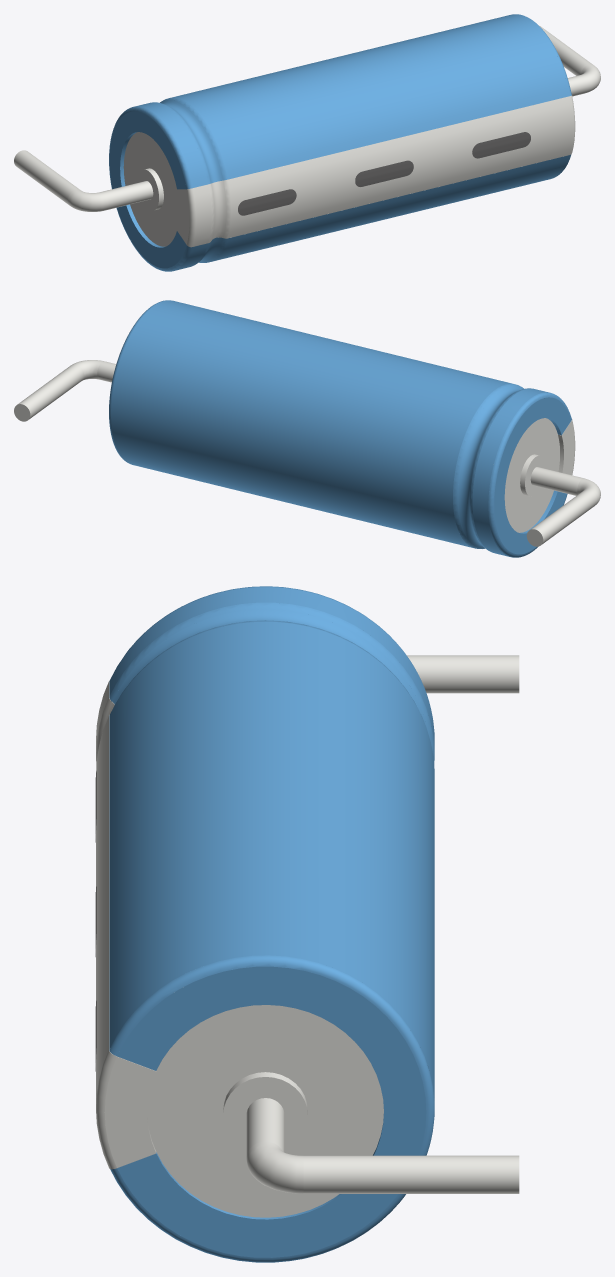
Rendered from CP_Axial_L21.0mm_D8.0mm_P28.00mm_Horizontal.glb.
3 views of the same model, one above another, from view 1: azimuth 30°, elevation 25°; view 2: azimuth 150°, elevation 25°; view 3: azimuth 270°, elevation 25° (orthographic). The views are drawn at different scales.
Visible parts, largest first — view 1: Shape_IndexedFaceSet.009, Shape_IndexedFaceSet.059, Shape_IndexedFaceSet.006, Shape_IndexedFaceSet.074, Shape_IndexedFaceSet, Shape_IndexedFaceSet.005, Shape_IndexedFaceSet.061, Shape_IndexedFaceSet.063, Shape_IndexedFaceSet.003, Shape_IndexedFaceSet.045, Shape_IndexedFaceSet.018, Shape_IndexedFaceSet.038 (+11 smaller); view 2: Shape_IndexedFaceSet.009, Shape_IndexedFaceSet.074, Shape_IndexedFaceSet.006, Shape_IndexedFaceSet, Shape_IndexedFaceSet.005, Shape_IndexedFaceSet.003, Shape_IndexedFaceSet.065, Shape_IndexedFaceSet.061, Shape_IndexedFaceSet.063, Shape_IndexedFaceSet.007, Shape_IndexedFaceSet.002, Shape_IndexedFaceSet.051 (+3 smaller); view 3: Shape_IndexedFaceSet.009, Shape_IndexedFaceSet.069, Shape_IndexedFaceSet.012, Shape_IndexedFaceSet.065, Shape_IndexedFaceSet.011, Shape_IndexedFaceSet, Shape_IndexedFaceSet.059, Shape_IndexedFaceSet.056, Shape_IndexedFaceSet.061, Shape_IndexedFaceSet.005, Shape_IndexedFaceSet.067, Shape_IndexedFaceSet.002 (+3 smaller).
Part boxes in pixels (box(x1,y1,x2,y2)): Shape_IndexedFaceSet.009: box(170, 14, 569, 261); Shape_IndexedFaceSet.059: box(228, 96, 572, 238); Shape_IndexedFaceSet.006: box(109, 111, 186, 268); Shape_IndexedFaceSet.074: box(123, 132, 178, 246); Shape_IndexedFaceSet: box(135, 102, 207, 270); Shape_IndexedFaceSet.005: box(161, 100, 223, 262); Shape_IndexedFaceSet.061: box(14, 150, 79, 205); Shape_IndexedFaceSet.063: box(100, 75, 586, 210); Shape_IndexedFaceSet.003: box(109, 106, 192, 271); Shape_IndexedFaceSet.045: box(192, 184, 211, 246); Shape_IndexedFaceSet.018: box(238, 189, 296, 215); Shape_IndexedFaceSet.038: box(472, 132, 530, 158); Shape_IndexedFaceSet.009: box(111, 300, 511, 547); Shape_IndexedFaceSet.074: box(504, 418, 559, 532); Shape_IndexedFaceSet.006: box(494, 397, 571, 554); Shape_IndexedFaceSet: box(472, 388, 548, 556); Shape_IndexedFaceSet.005: box(457, 386, 523, 548); Shape_IndexedFaceSet.003: box(488, 392, 571, 557); Shape_IndexedFaceSet.065: box(17, 364, 84, 419); Shape_IndexedFaceSet.061: box(530, 489, 596, 544); Shape_IndexedFaceSet.063: box(97, 361, 583, 495); Shape_IndexedFaceSet.007: box(453, 383, 523, 548); Shape_IndexedFaceSet.002: box(469, 388, 530, 551); Shape_IndexedFaceSet.051: box(562, 421, 574, 475); Shape_IndexedFaceSet.009: box(109, 622, 434, 1100); Shape_IndexedFaceSet.069: box(147, 1005, 383, 1217); Shape_IndexedFaceSet.012: box(117, 966, 426, 1257); Shape_IndexedFaceSet.065: box(303, 1155, 519, 1193); Shape_IndexedFaceSet.011: box(109, 955, 434, 1262); Shape_IndexedFaceSet: box(109, 587, 434, 749); Shape_IndexedFaceSet.059: box(96, 716, 108, 1103); Shape_IndexedFaceSet.056: box(104, 1056, 155, 1167); Shape_IndexedFaceSet.061: box(407, 655, 519, 693); Shape_IndexedFaceSet.005: box(112, 609, 428, 734); Shape_IndexedFaceSet.067: box(223, 1077, 307, 1148); Shape_IndexedFaceSet.002: box(109, 602, 434, 763).
Size of the model in its own units: 11.37 by 3.15 by 3.94.
